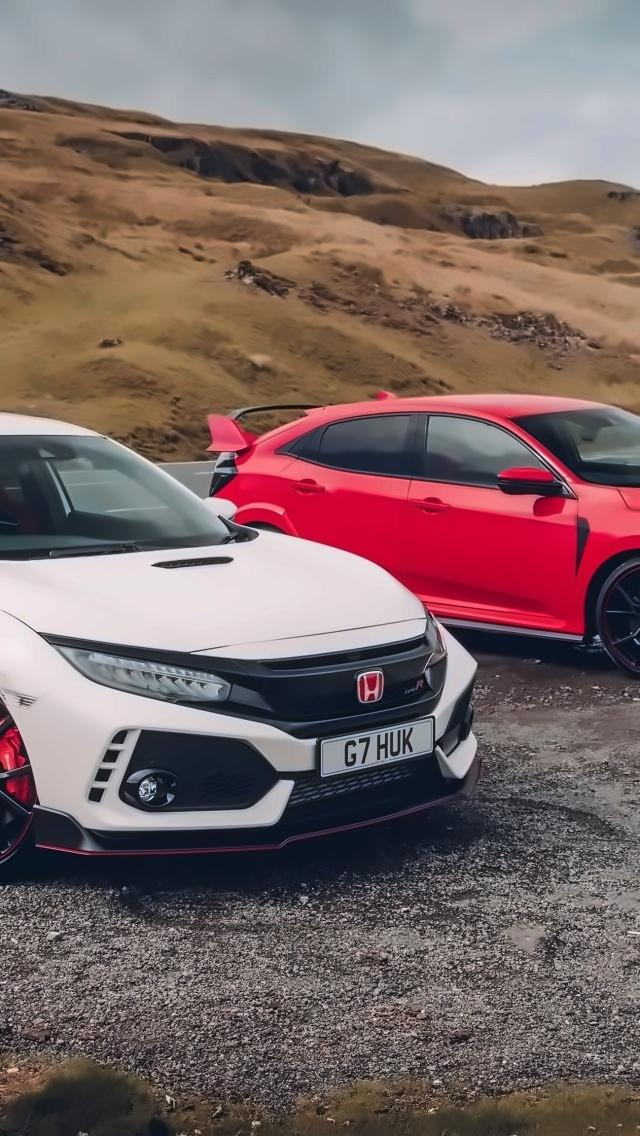Car hood: (0, 520, 434, 660)
Driver-s door - -F-R-: (404, 386, 572, 640)
Fender - -F-R-: (556, 478, 640, 646)
Fender - -R-R-: (202, 414, 297, 546)
Front bumper: (4, 676, 494, 877)
Headlight - -R-: (40, 636, 231, 715)
Passenger-s door - -R-R-: (282, 392, 425, 601)
Side bumper - -R-: (366, 567, 601, 665), (490, 462, 570, 512)
